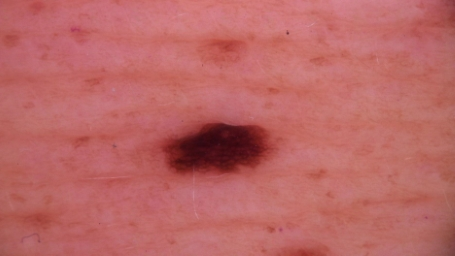melanoma: (165, 122, 267, 169)
